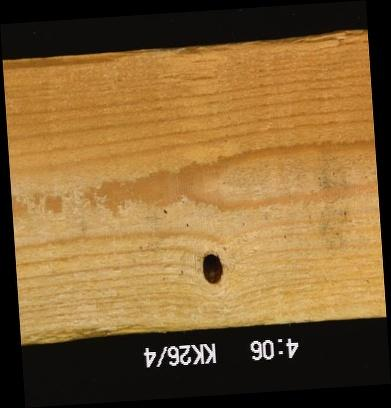wave: (19, 321, 175, 339), (2, 54, 136, 70), (167, 46, 231, 62)
